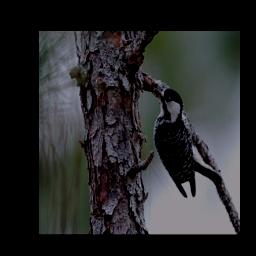Woodpecker: (150, 83, 222, 198)
